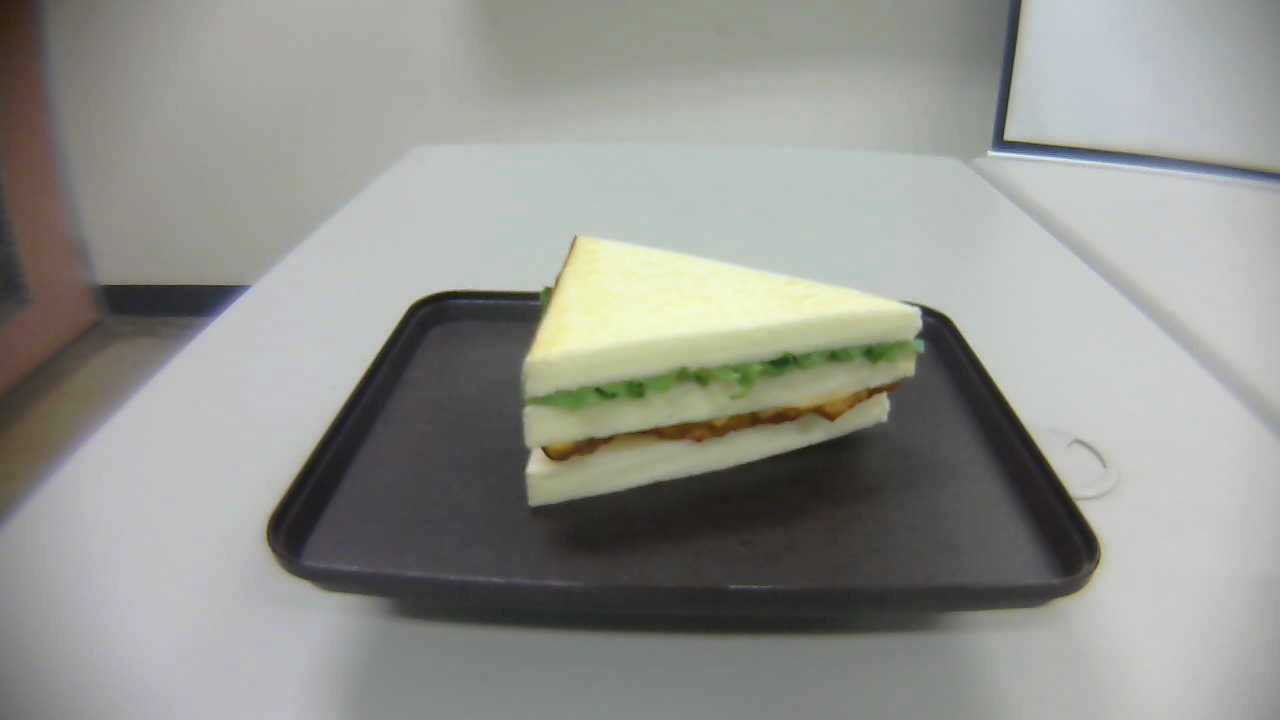sandwich: (521, 235, 923, 510)
